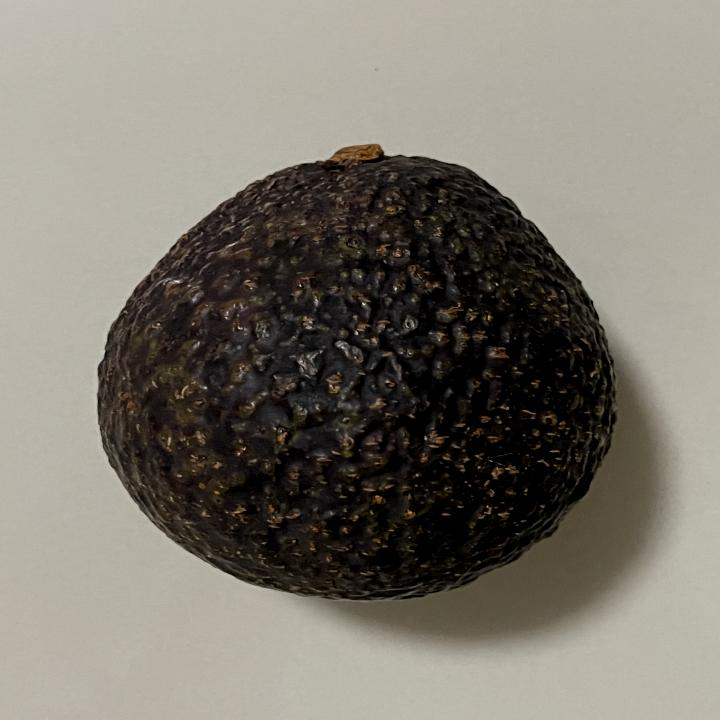Level2: (90, 140, 622, 608)
